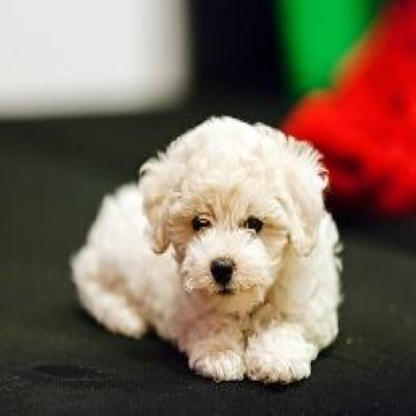maltese: (70, 111, 343, 382)
